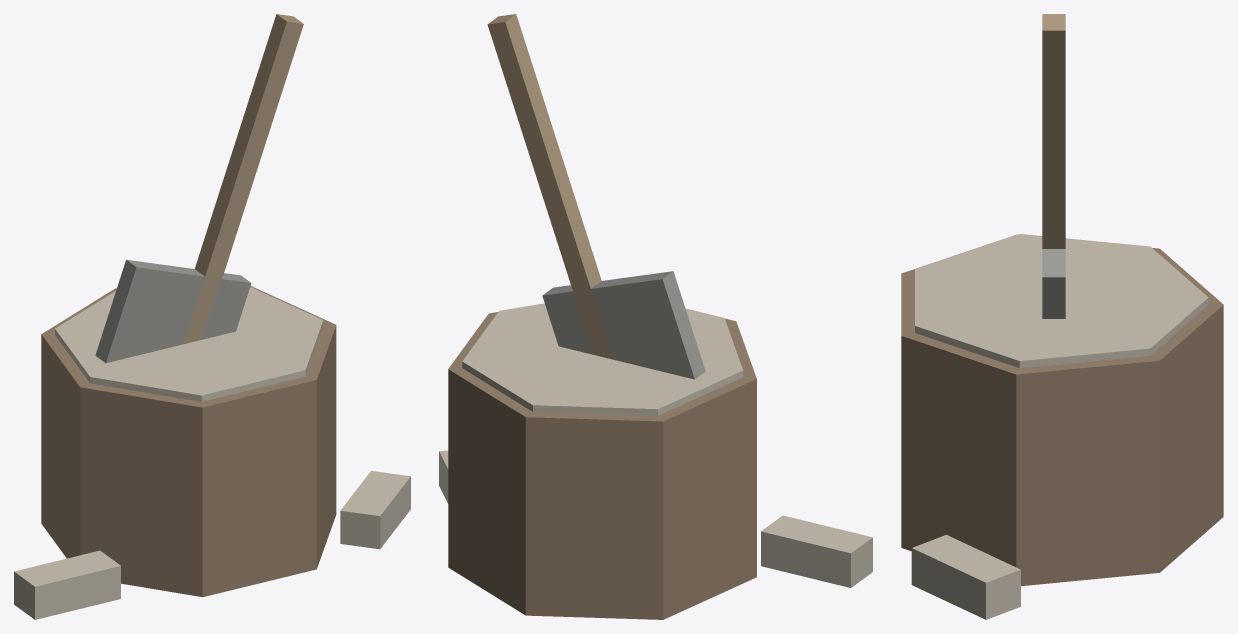
The model's file is wood-chopping.glb.
3 views of the same model, side by side, from view 1: azimuth 30°, elevation 25°; view 2: azimuth 150°, elevation 25°; view 3: azimuth 270°, elevation 25° (orthographic). The views are drawn at different scales.
Visible parts, largest first — view 1: wood_chopping; view 2: wood_chopping; view 3: wood_chopping.
Boxes of the visible parts, x1,y1,x2,y2 form: wood_chopping: (14,14,410,619); wood_chopping: (439,14,872,619); wood_chopping: (901,14,1223,619).
Bounding box in the file's own units: 0.2908 × 0.347 × 0.1838.
